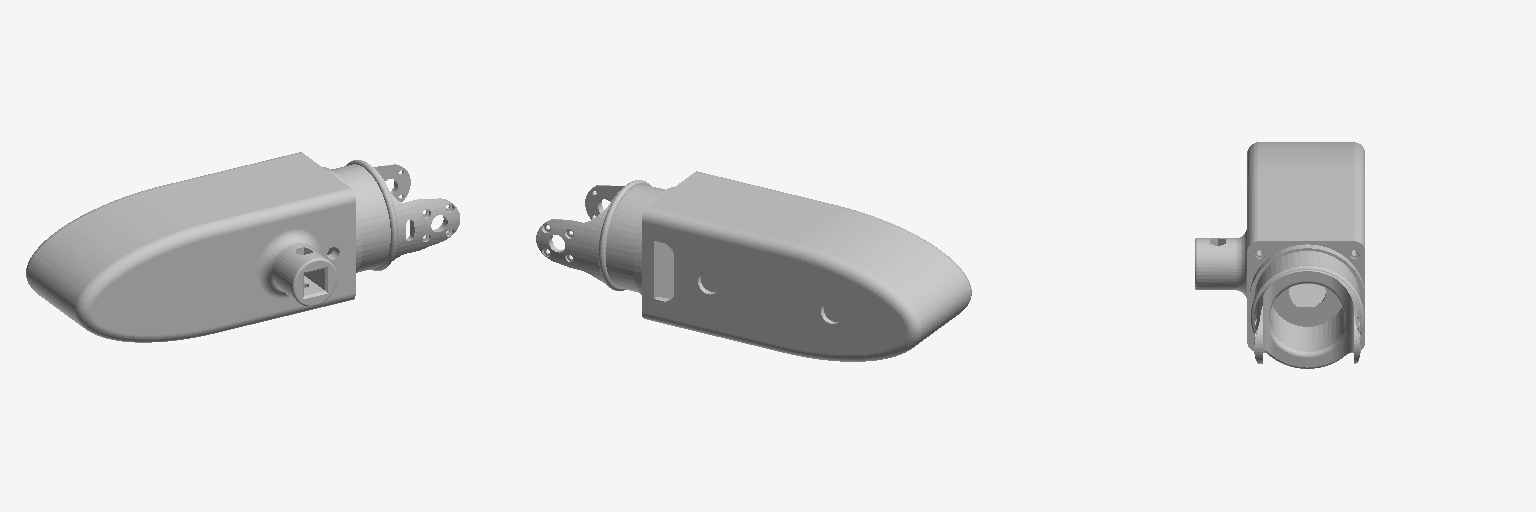
3 views of the same model, side by side, from view 1: azimuth 30°, elevation 25°; view 2: azimuth 150°, elevation 25°; view 3: azimuth 270°, elevation 25° (orthographic).
Visible parts, largest first — view 1: link0; view 2: link0; view 3: link0.
Boxes of the visible parts, x1,y1,x2,y2 form: link0: [26, 152, 459, 342]; link0: [536, 171, 971, 361]; link0: [1195, 142, 1364, 368].
Bounding box in the file's own units: 0.1871 × 0.0521 × 0.0722.